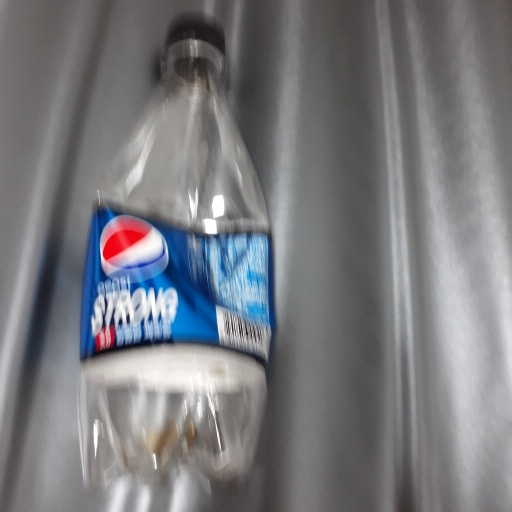Plastic_0: (78, 14, 270, 478)
